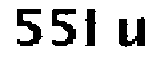5: (47, 6, 81, 52), (10, 6, 44, 51)
I: (84, 6, 105, 51)
u: (111, 13, 152, 53)
